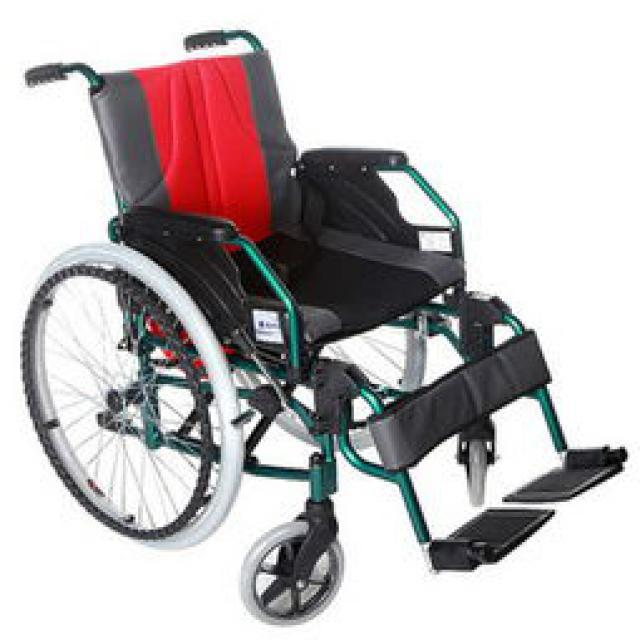wheelchair: (10, 28, 638, 628)
